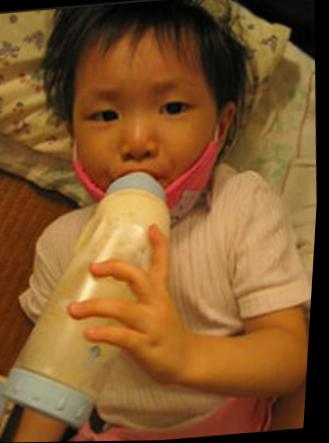WRONG: (62, 54, 223, 226)
